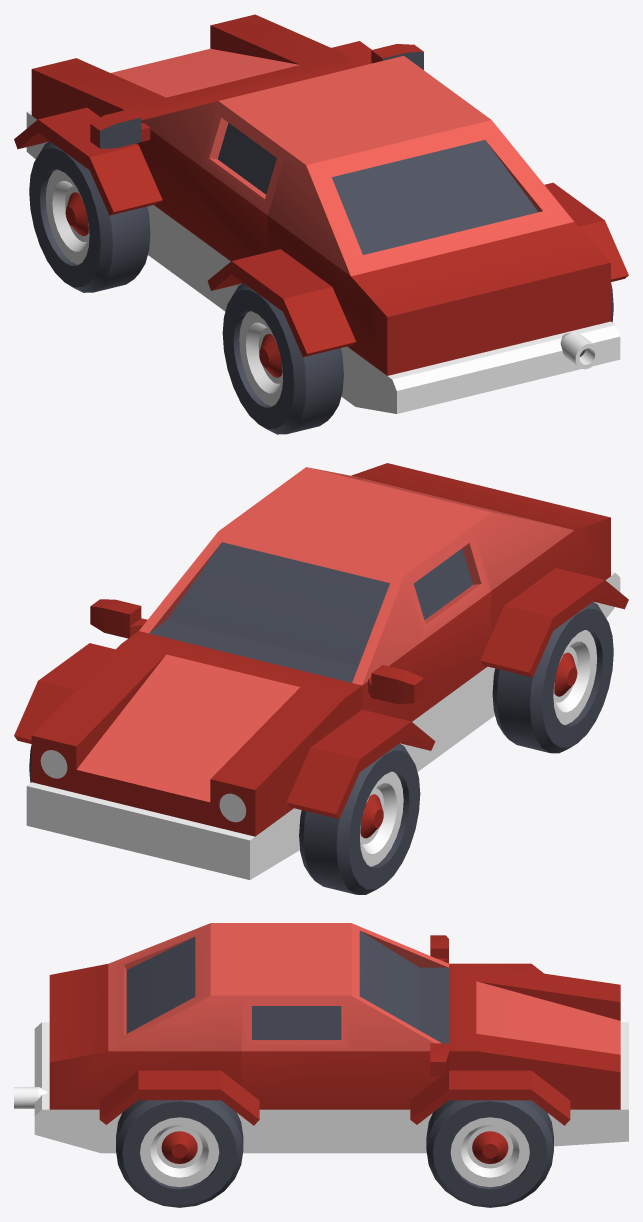
The model's file is Traffic Old Red.fbx.
The picture shows the model from 3 angles, top to bottom: view 1: azimuth 30°, elevation 25°; view 2: azimuth 150°, elevation 25°; view 3: azimuth 270°, elevation 25°; orthographic projection. The views are drawn at different scales.
Visible parts, largest first — view 1: trunk_square_9, windshield_sports_3, hood_square_5, wheel_colored_29, wheel_colored_28, detail_fenderSquare_33, detail_fenderSquare_30, detail_fenderSquare_37, detail_mirror_20, detail_exhaust_38, detail_mirror_21; view 2: hood_square_5, windshield_sports_3, trunk_square_9, wheel_colored_29, wheel_colored_28, detail_fenderSquare_33, detail_fenderSquare_30, detail_fenderSquare_35, detail_mirror_20, detail_mirror_21; view 3: windshield_sports_3, trunk_square_9, hood_square_5, wheel_colored_34, wheel_colored_36, detail_fenderSquare_37, detail_fenderSquare_35, detail_mirror_21, detail_exhaust_38, detail_mirror_20.
Part boxes in pixels (x1,y1,x2,y2): trunk_square_9: [267, 106, 620, 413]; windshield_sports_3: [138, 56, 471, 311]; hood_square_5: [26, 14, 360, 159]; wheel_colored_29: [222, 283, 343, 434]; wheel_colored_28: [29, 141, 150, 292]; detail_fenderSquare_33: [207, 249, 356, 357]; detail_fenderSquare_30: [14, 107, 162, 215]; detail_fenderSquare_37: [544, 182, 628, 281]; detail_mirror_20: [90, 109, 150, 148]; detail_exhaust_38: [560, 332, 599, 369]; detail_mirror_21: [371, 44, 423, 69]; hood_square_5: [26, 631, 362, 879]; windshield_sports_3: [139, 481, 491, 771]; trunk_square_9: [287, 463, 620, 717]; wheel_colored_29: [492, 602, 613, 753]; wheel_colored_28: [299, 743, 420, 894]; detail_fenderSquare_33: [480, 568, 628, 677]; detail_fenderSquare_30: [286, 709, 435, 818]; detail_fenderSquare_35: [14, 643, 115, 743]; detail_mirror_20: [368, 665, 423, 704]; detail_mirror_21: [90, 599, 147, 638]; windshield_sports_3: [241, 923, 448, 1153]; trunk_square_9: [34, 923, 241, 1153]; hood_square_5: [449, 963, 628, 1146]; wheel_colored_34: [426, 1100, 553, 1207]; wheel_colored_36: [116, 1100, 243, 1207]; detail_fenderSquare_37: [99, 1070, 259, 1125]; detail_fenderSquare_35: [410, 1070, 570, 1125]; detail_mirror_21: [430, 1043, 448, 1076]; detail_exhaust_38: [14, 1087, 47, 1108]; detail_mirror_20: [430, 935, 448, 963].
Bounding box in the file's own units: 14.5 × 10.08 × 29.7.
